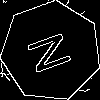N: (26, 26, 82, 77)
